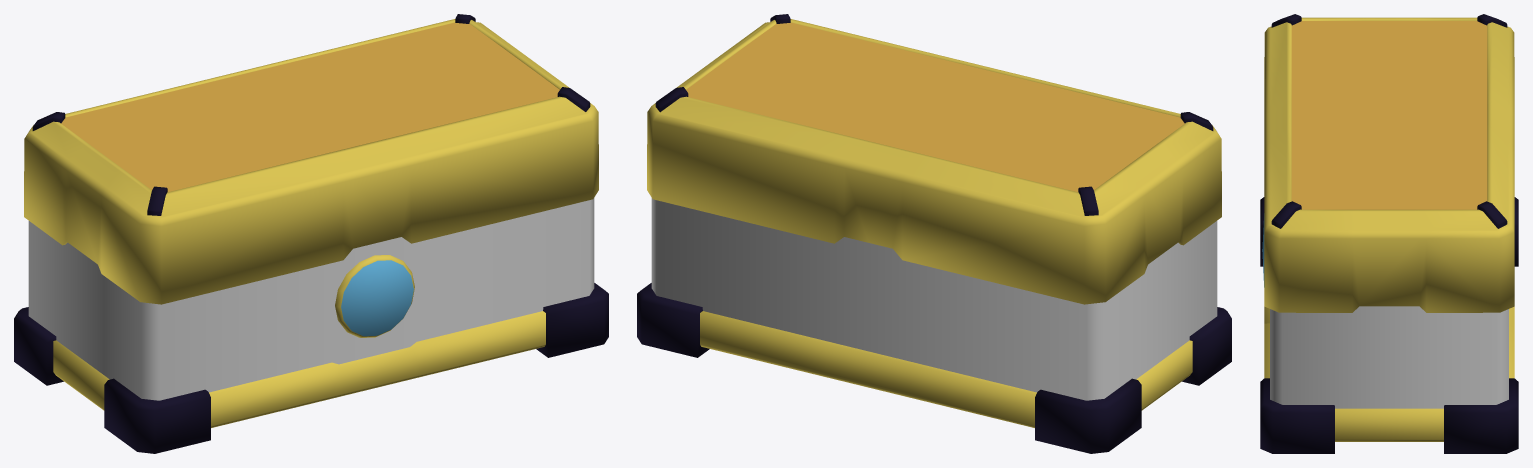
The model's file is Large_Box.fbx.
3 views of the same model, side by side, from view 1: azimuth 30°, elevation 25°; view 2: azimuth 150°, elevation 25°; view 3: azimuth 270°, elevation 25° (orthographic). The views are drawn at different scales.
Parts seen in each view (by area): view 1: Large_Box; view 2: Large_Box; view 3: Large_Box.
Part boxes in pixels (box(x1,y1,x2,y2)): Large_Box: box(14, 14, 608, 453); Large_Box: box(637, 14, 1231, 453); Large_Box: box(1260, 14, 1518, 453).
Size of the model in its own units: 200 by 100 by 100.
